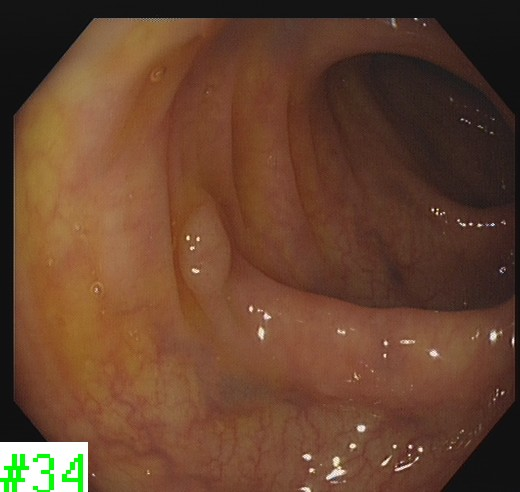adenoma: (174, 197, 233, 303)
